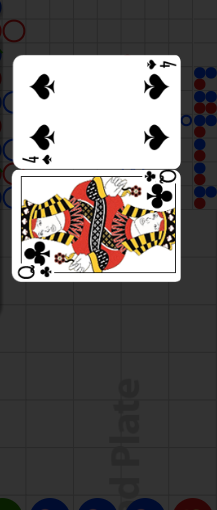4S: (21, 153, 55, 166)
QC: (134, 171, 181, 215), (14, 238, 60, 282)
